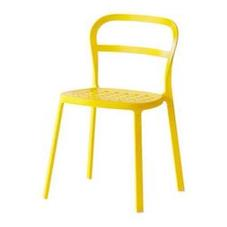chair: (23, 5, 210, 214)
